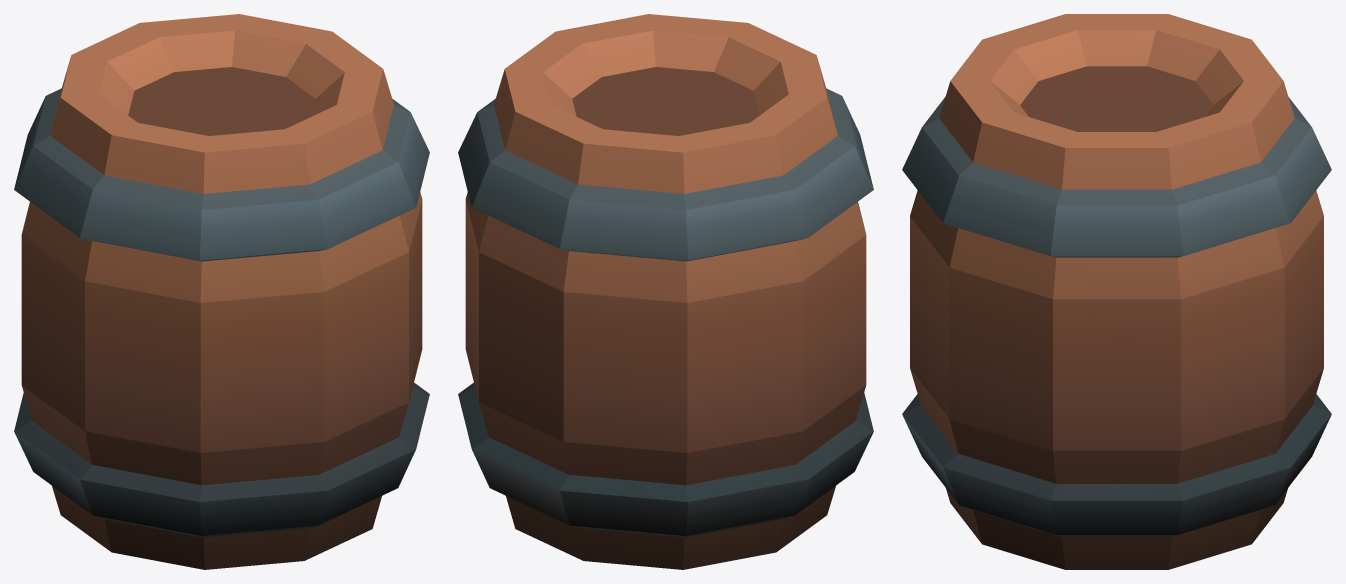
Rendered from barrel.glb.
The picture shows the model from 3 angles, left to right: view 1: azimuth 30°, elevation 25°; view 2: azimuth 150°, elevation 25°; view 3: azimuth 270°, elevation 25°; orthographic projection.
Visible parts, largest first — view 1: Object_4; view 2: Object_4; view 3: Object_4.
Boxes of the visible parts, left/top/right/bottom form: Object_4: left=14, top=14, right=429, bottom=569; Object_4: left=458, top=14, right=873, bottom=569; Object_4: left=902, top=14, right=1331, bottom=569.
Size of the model in its own units: 5.72 by 6.52 by 6.02.
1 material, 1 textured.
